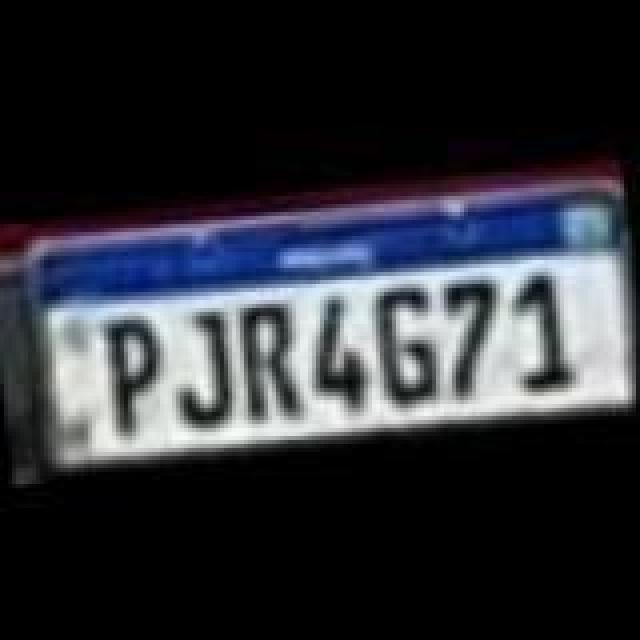1: (502, 260, 582, 392)
4: (302, 290, 382, 422)
7: (436, 276, 520, 408)
G: (366, 274, 454, 406)
J: (162, 306, 242, 434)
P: (100, 312, 176, 444)
R: (232, 300, 308, 428)
